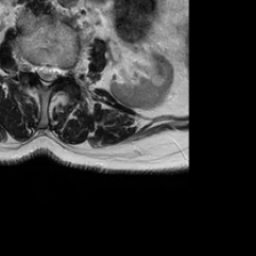CCS_normal: (42, 56, 50, 97)
LFS_normal: (58, 58, 67, 83)
LLS_normal: (50, 58, 58, 87)
RFS_normal: (26, 54, 35, 78)
RLS_normal: (35, 55, 42, 87)
